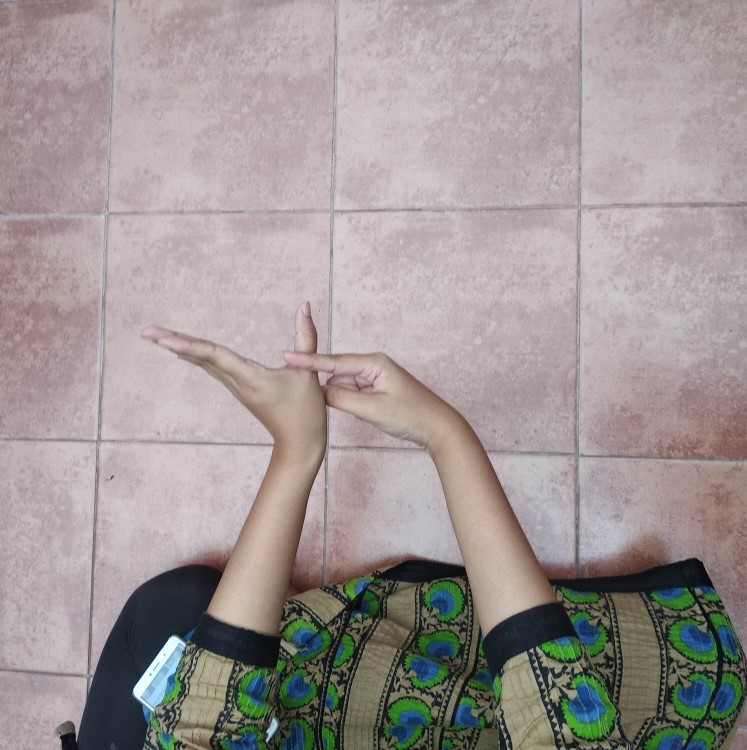dh: (132, 288, 444, 457)
